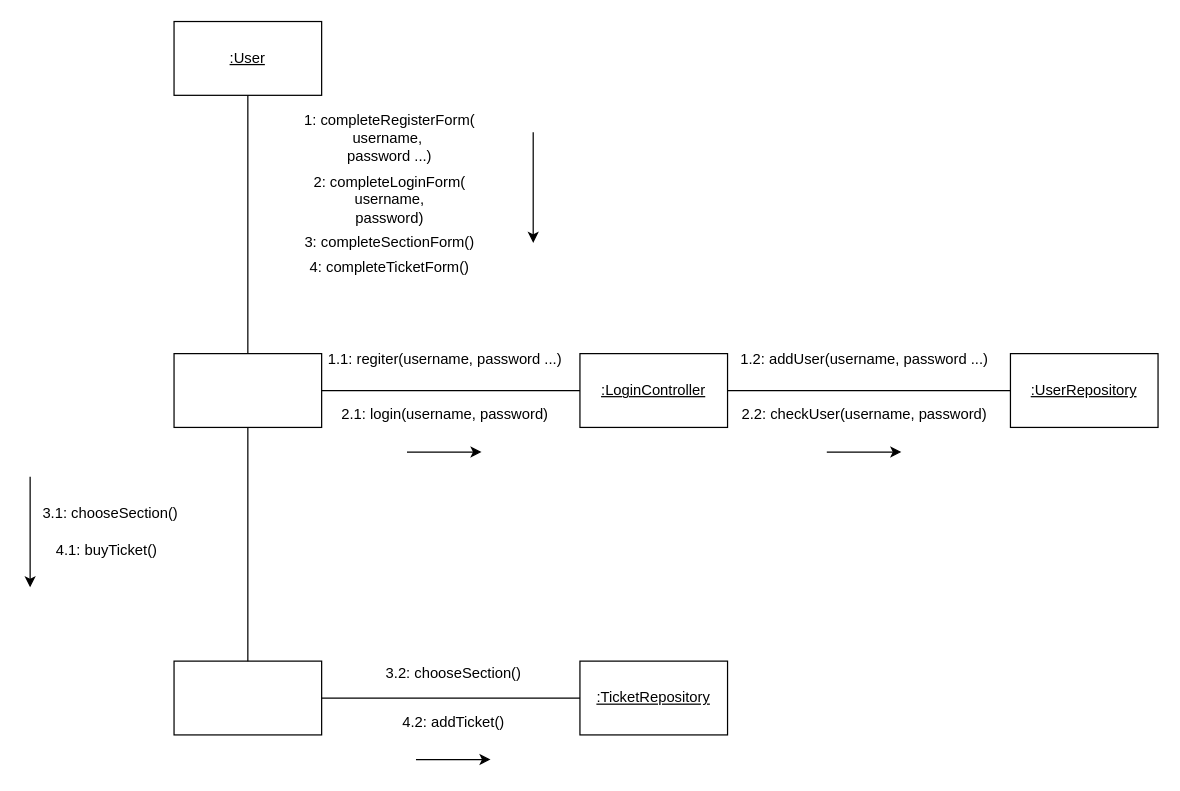
Image size: 1180x791. Some labels were removed from this diagram. The shapes that lost their labels are listed below. From the top down, each one's centre as x and y in pixels, then its label:
At [247,389]: ":UI".
At [247,697]: ":TicketController".
